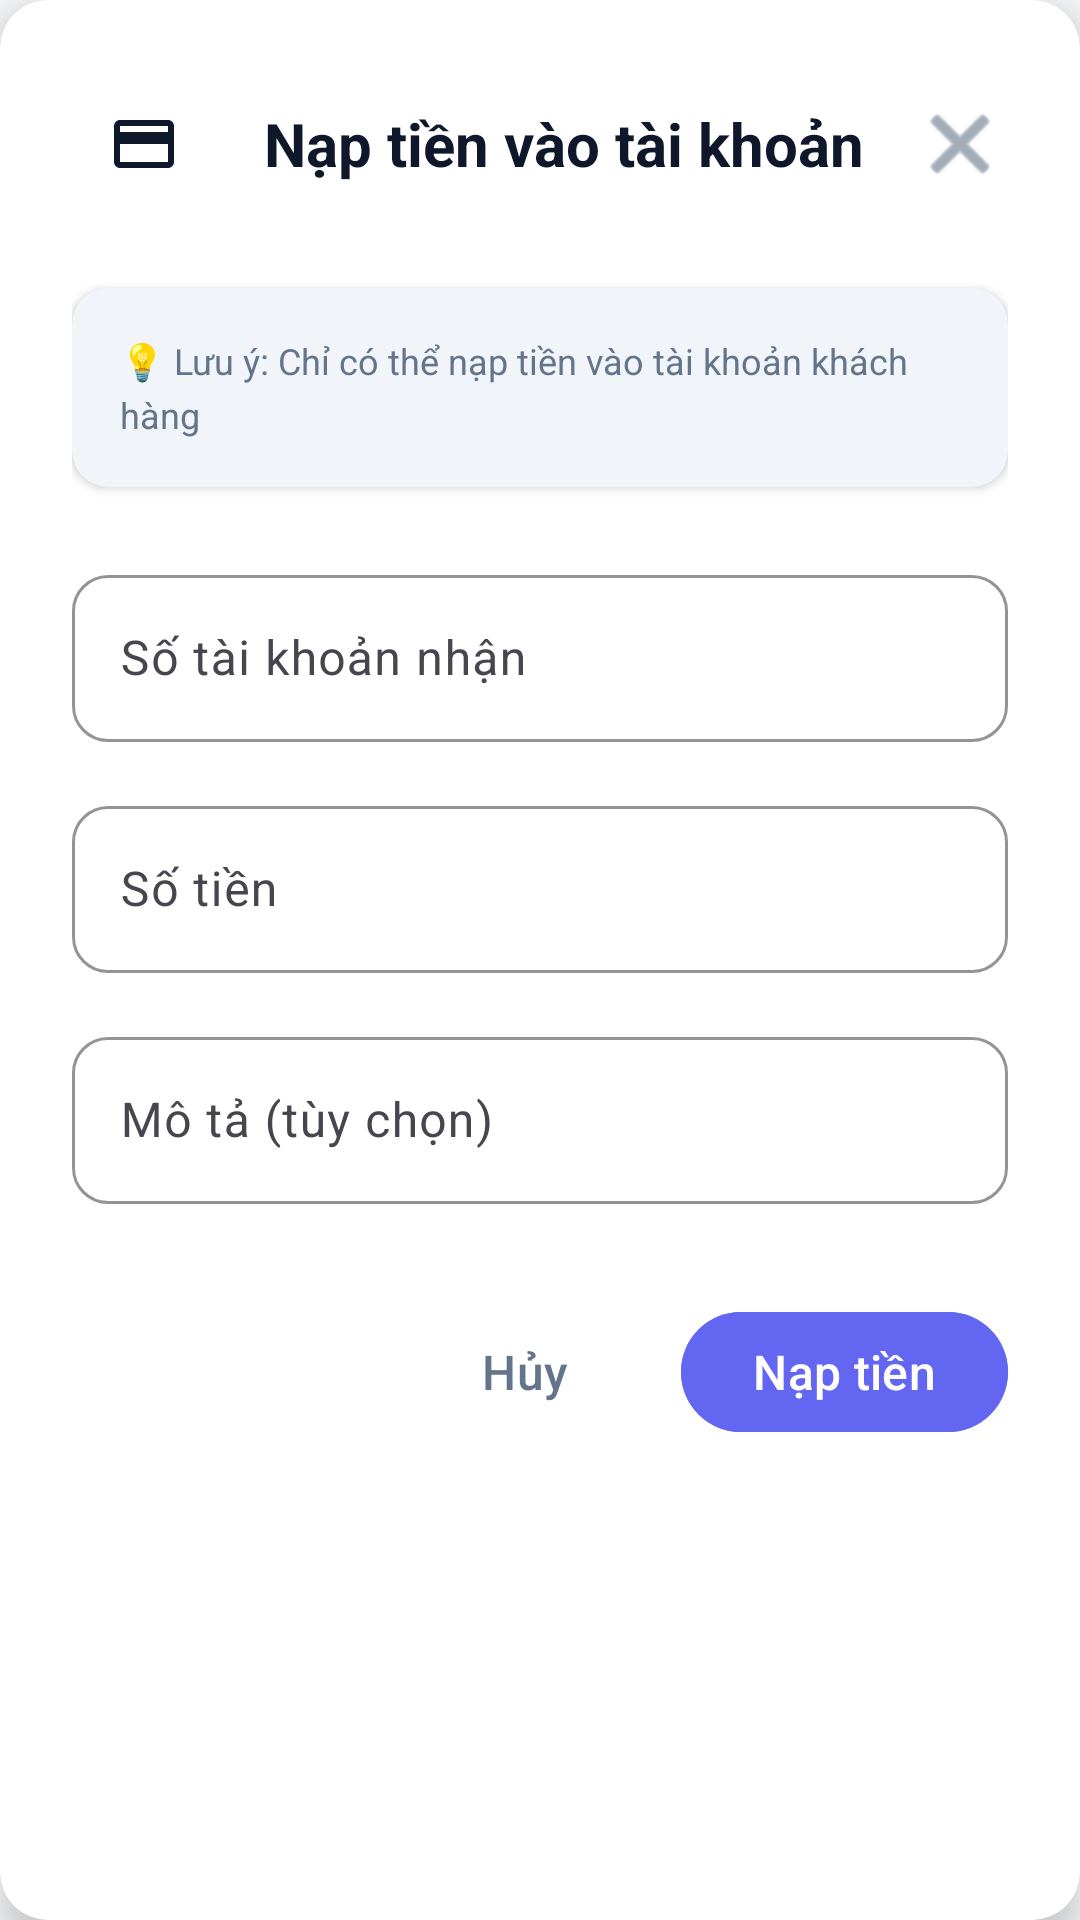

Icon bounding boxes for this 1080px×1920px phone screenshot, format {"x1": x1, "y1": y1, "x2": x2, "y2": y2}:
Đóng: {"x1": 930, "y1": 114, "x2": 990, "y2": 174}
